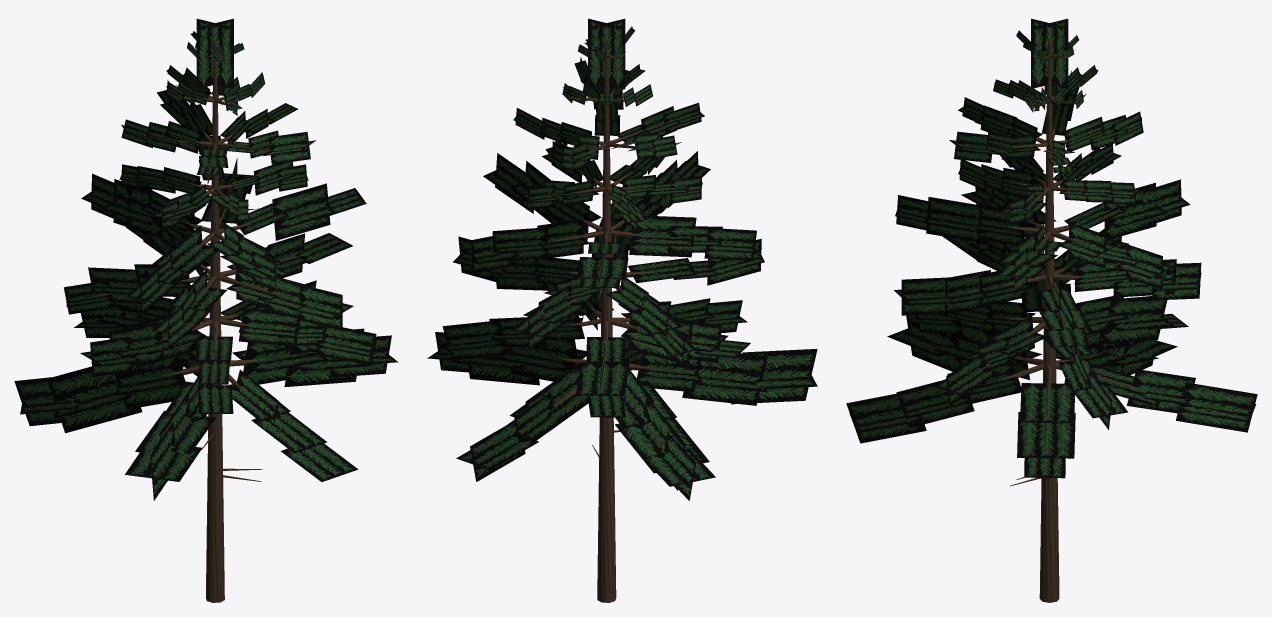
The model's file is pine_L2.glb.
3 renders of one model, left to right at view 1: azimuth 30°, elevation 25°; view 2: azimuth 150°, elevation 25°; view 3: azimuth 270°, elevation 25°, orthographic.
Bounding box in the file's own units: 8.56 × 14.42 × 9.34.
2 materials, 2 textured.
